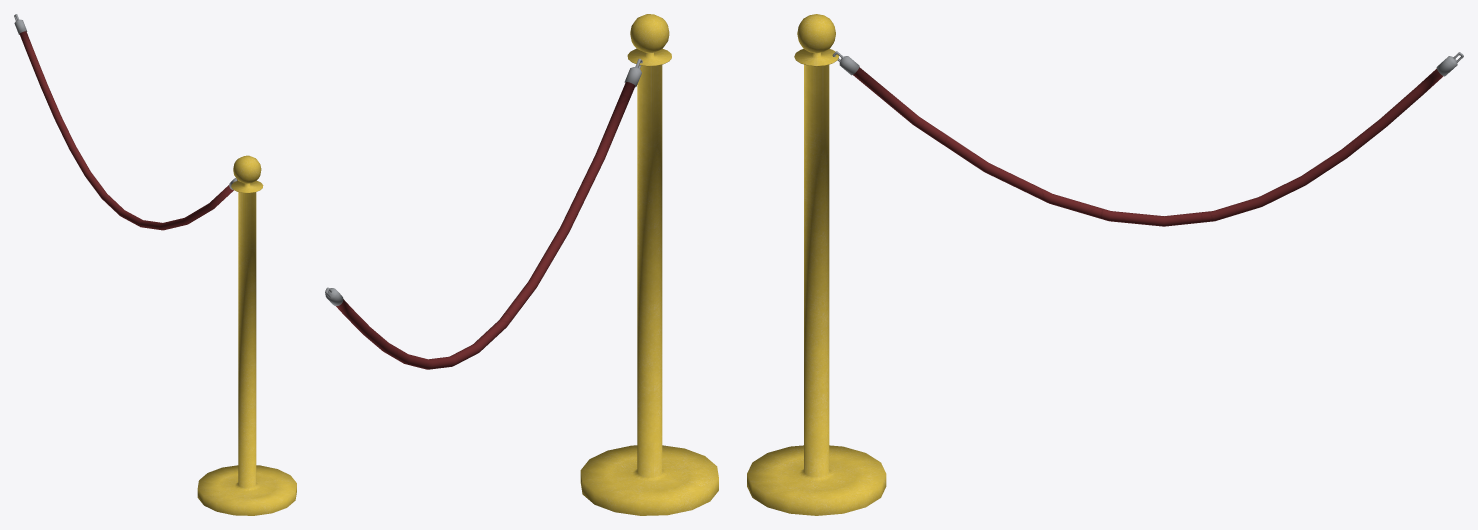
File: Museum_Stanchions.fbx
3 views of the same model, side by side, from view 1: azimuth 30°, elevation 25°; view 2: azimuth 150°, elevation 25°; view 3: azimuth 270°, elevation 25° (orthographic). The views are drawn at different scales.
Visible parts, largest first — view 1: Pole; view 2: Pole; view 3: Pole.
Part boxes in pixels (x1,y1,x2,y2): Pole: (14, 14, 296, 515); Pole: (325, 14, 718, 515); Pole: (747, 14, 1463, 515).
Size of the model in its own units: 26.45 by 98.57 by 136.
Materials: 1 (1 with a texture image).
